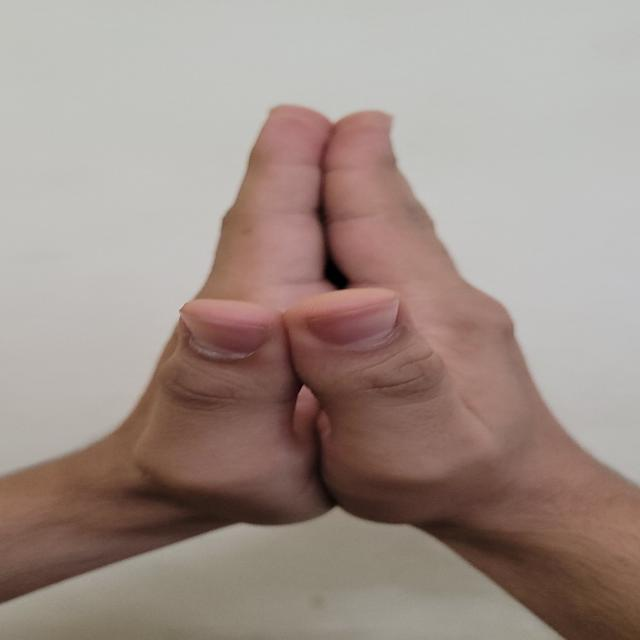Thank You: (61, 55, 640, 578)
